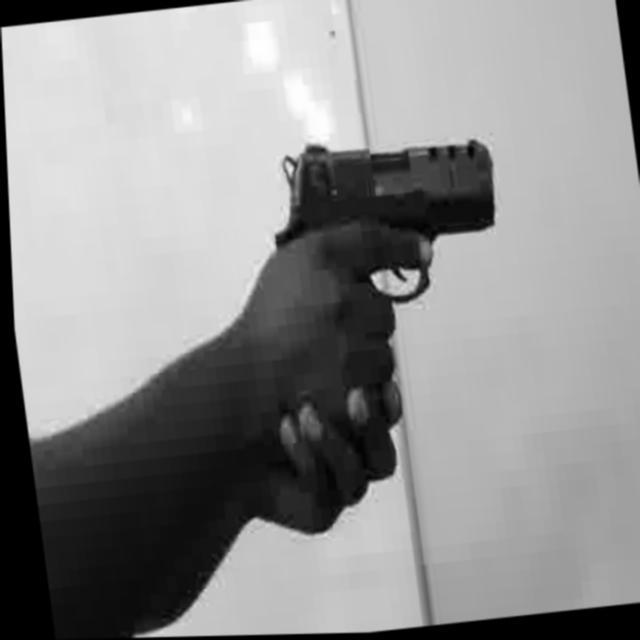weapon: (260, 125, 508, 322)
